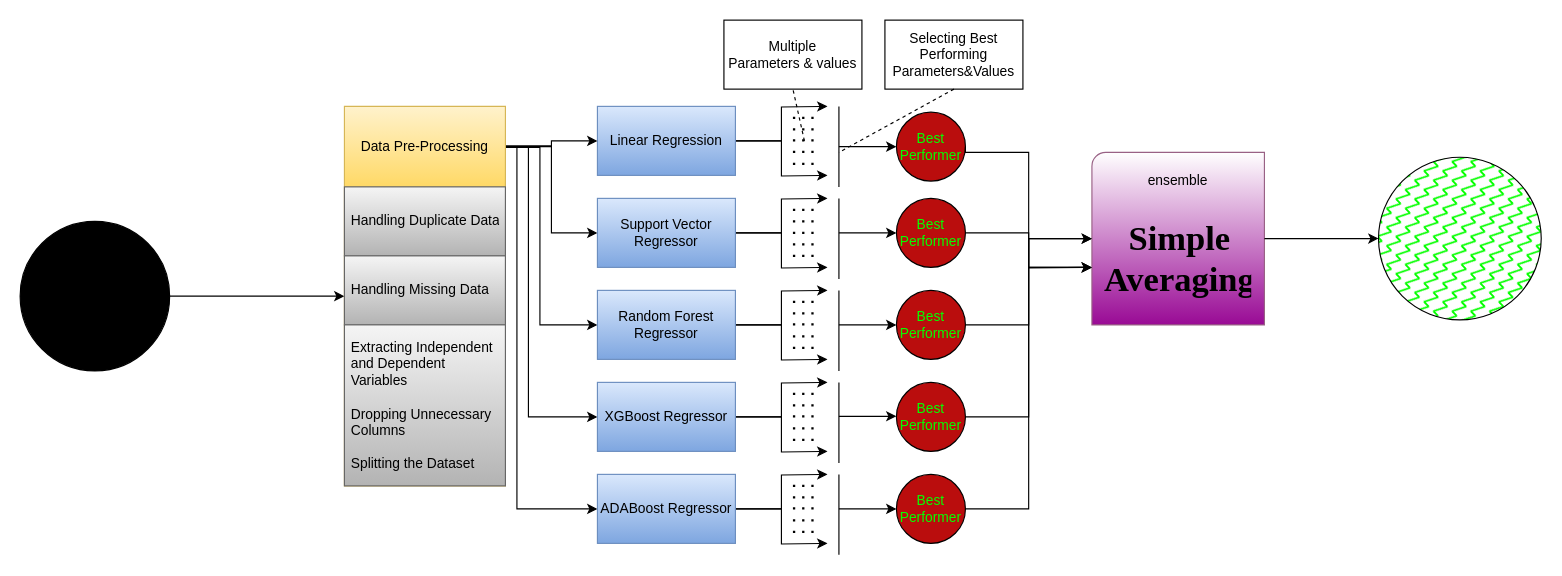
The diagram is 1562 pixels wide and 576 high, and some of its shapes have lost their labels. Each missing label, with the centre of its shape:
"Data Collection" belongs at (94,295).
"OUTPUT" belongs at (1459,238).
